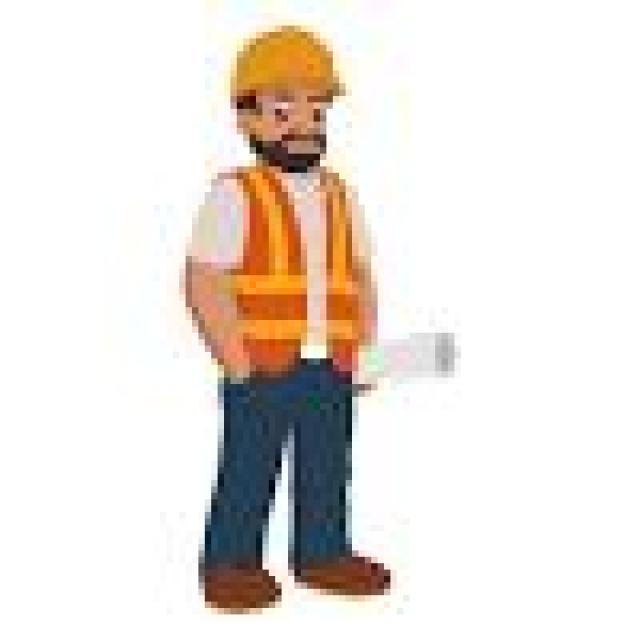Reflective-Jacket: (186, 154, 371, 390)
Safety-Helmet: (205, 13, 358, 115)
